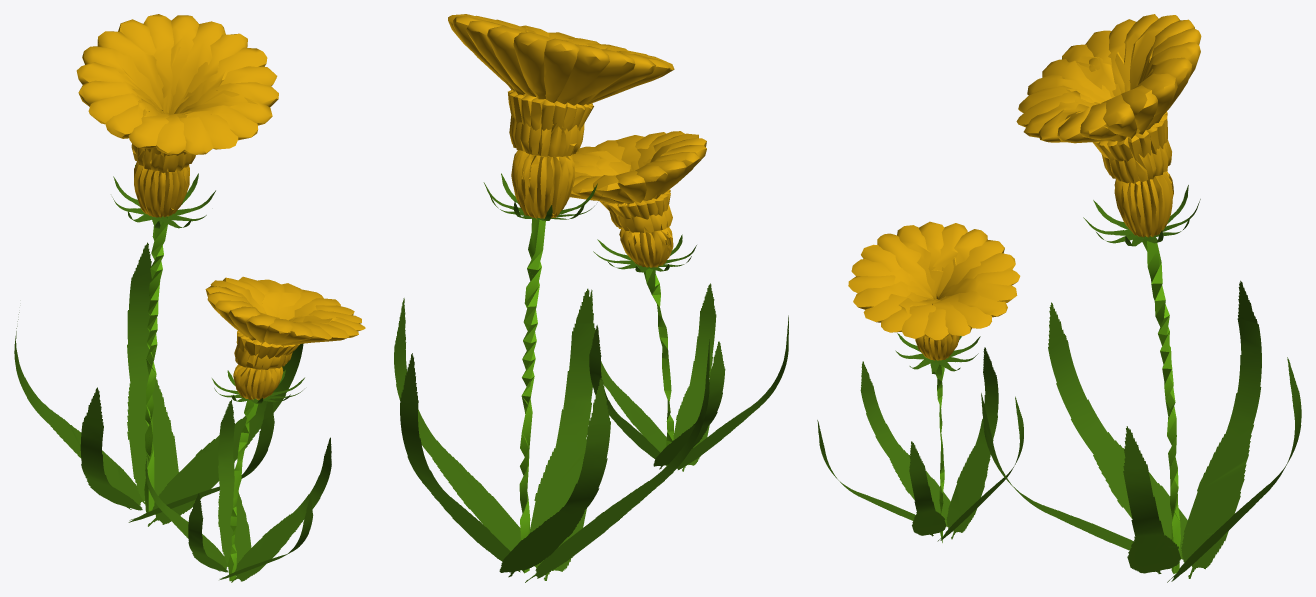
The model's file is reingold.fbx.
The picture shows the model from 3 angles, left to right: view 1: azimuth 30°, elevation 25°; view 2: azimuth 150°, elevation 25°; view 3: azimuth 270°, elevation 25°; orthographic projection. The views are drawn at different scales.
Visible parts, largest first — view 1: Cloner_3, Cloner_4; view 2: Cloner_4, Cloner_3; view 3: Cloner_4, Cloner_3.
Boxes of the visible parts, bbox=[...] form: Cloner_3: bbox=[76, 14, 331, 582]; Cloner_4: bbox=[14, 242, 365, 581]; Cloner_4: bbox=[394, 131, 709, 582]; Cloner_3: bbox=[448, 14, 788, 573]; Cloner_4: bbox=[848, 221, 1301, 582]; Cloner_3: bbox=[817, 14, 1201, 573].
Size of the model in its own units: 24.97 by 47.93 by 38.86.
